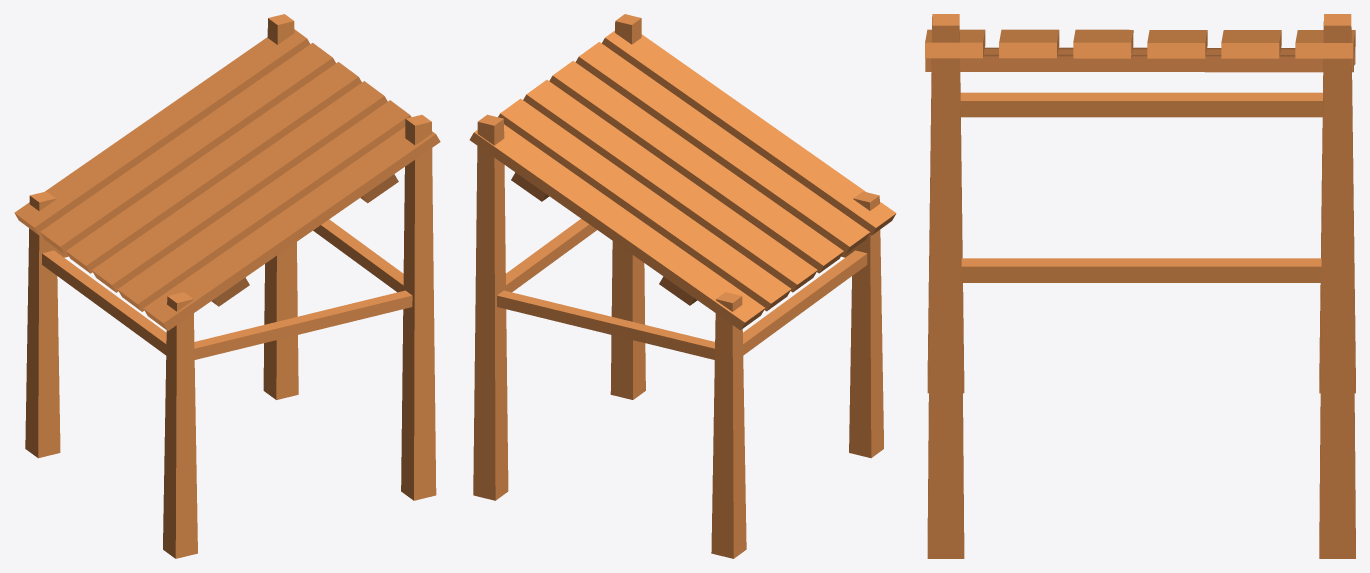
The model's file is Structure Roof.glb.
3 views of the same model, side by side, from view 1: azimuth 30°, elevation 25°; view 2: azimuth 150°, elevation 25°; view 3: azimuth 270°, elevation 25° (orthographic). The views are drawn at different scales.
Parts seen in each view (by area): view 1: structureRoof; view 2: structureRoof; view 3: structureRoof.
Part boxes in pixels (x1,y1,x2,y2): structureRoof: (14, 14, 440, 558); structureRoof: (469, 14, 896, 558); structureRoof: (925, 14, 1355, 558).
Size of the model in its own units: 0.5328 by 0.6845 by 0.503.
